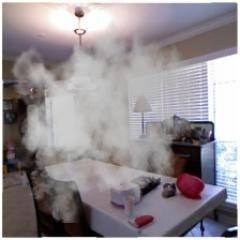smoke: (36, 66, 173, 194)
